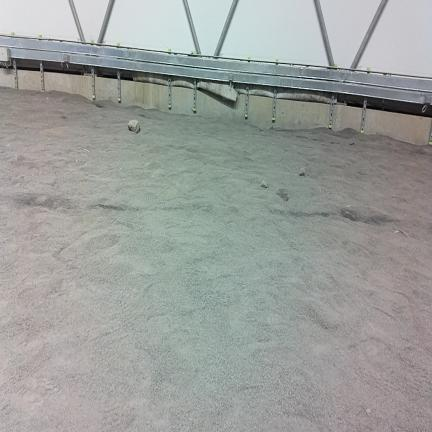Rock: (276, 188, 289, 201), (128, 120, 140, 133), (261, 181, 268, 188), (299, 168, 305, 176), (366, 408, 371, 414)
